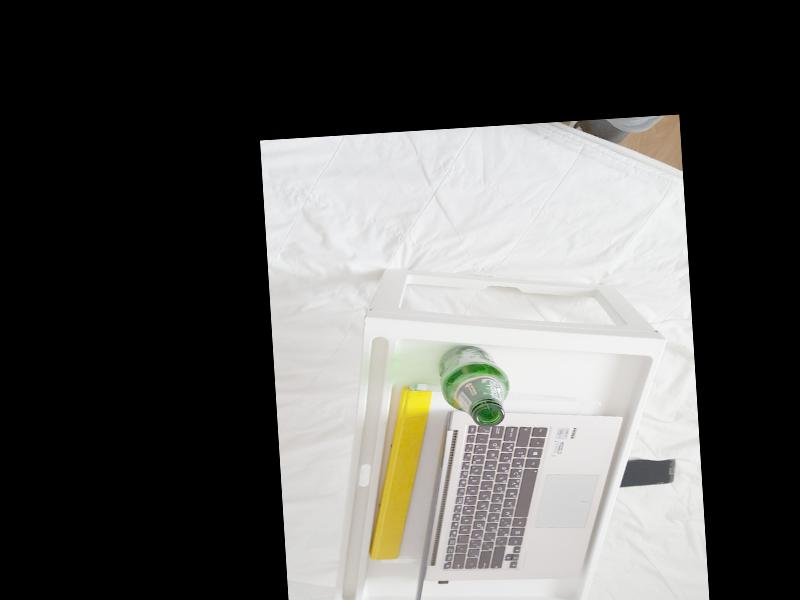Beer: (437, 341, 512, 428)
